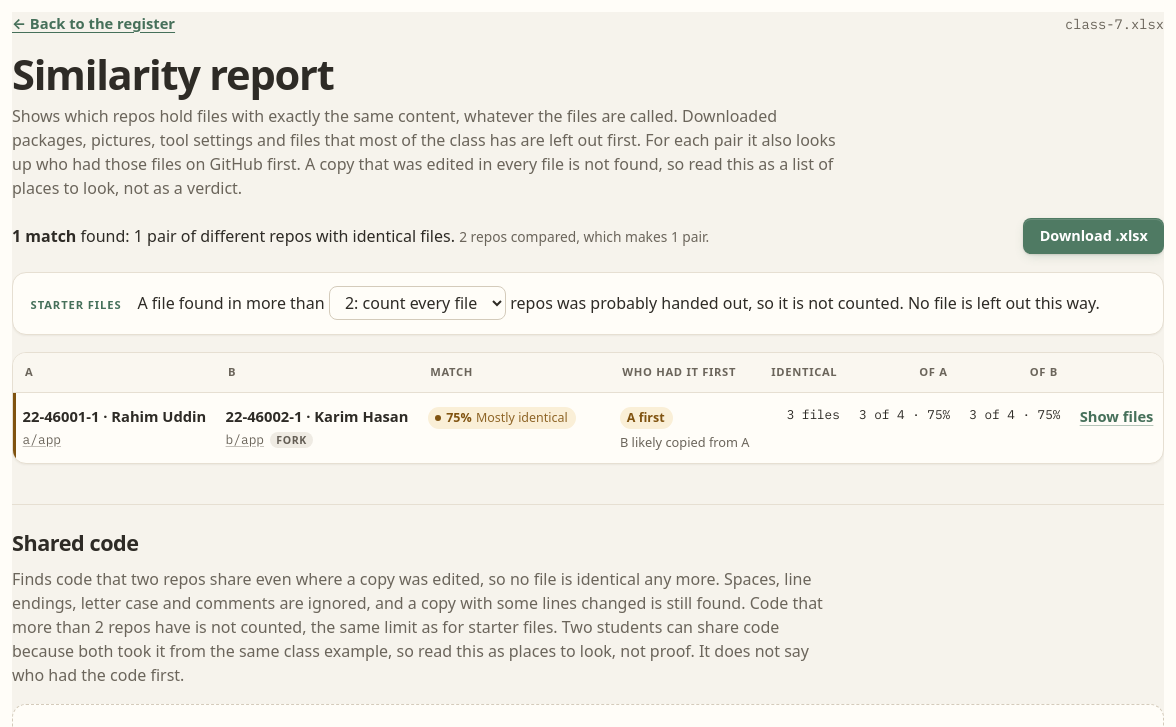
who had it first › takes a GitHub fork of the other repo as decided
Expected: the cell "A first B likely copied from A" is shown, 610,393 -> 759,463
Click the button "Show files" at (1117, 416), box 1080,405 -> 1153,427
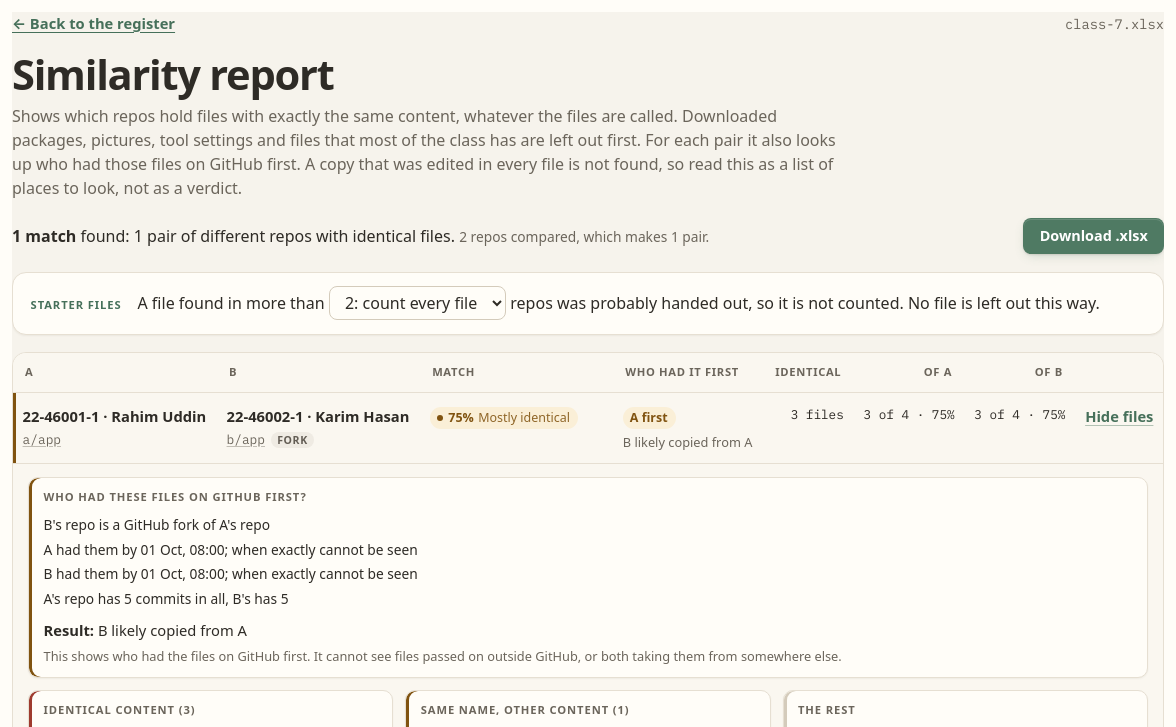
Now the list item "B's repo is a GitHub fork of A's repo" is shown, box 44,515 -> 270,534
